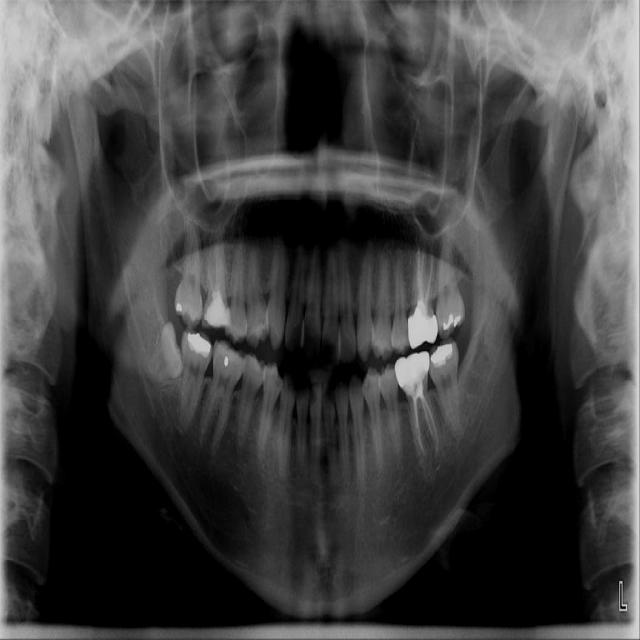Crown: (408, 308, 439, 351), (394, 350, 430, 387)
Filling: (201, 293, 230, 329), (430, 341, 456, 368), (183, 330, 210, 355), (439, 311, 461, 335), (174, 286, 188, 319), (222, 347, 234, 368)
Periapical lesion: (432, 453, 443, 473)
Root Canal Treatment: (422, 394, 438, 452), (413, 400, 424, 452), (425, 244, 434, 304), (424, 397, 435, 446), (417, 247, 422, 302), (206, 261, 213, 292), (215, 242, 219, 289)
impacted tooth: (135, 321, 182, 385)
